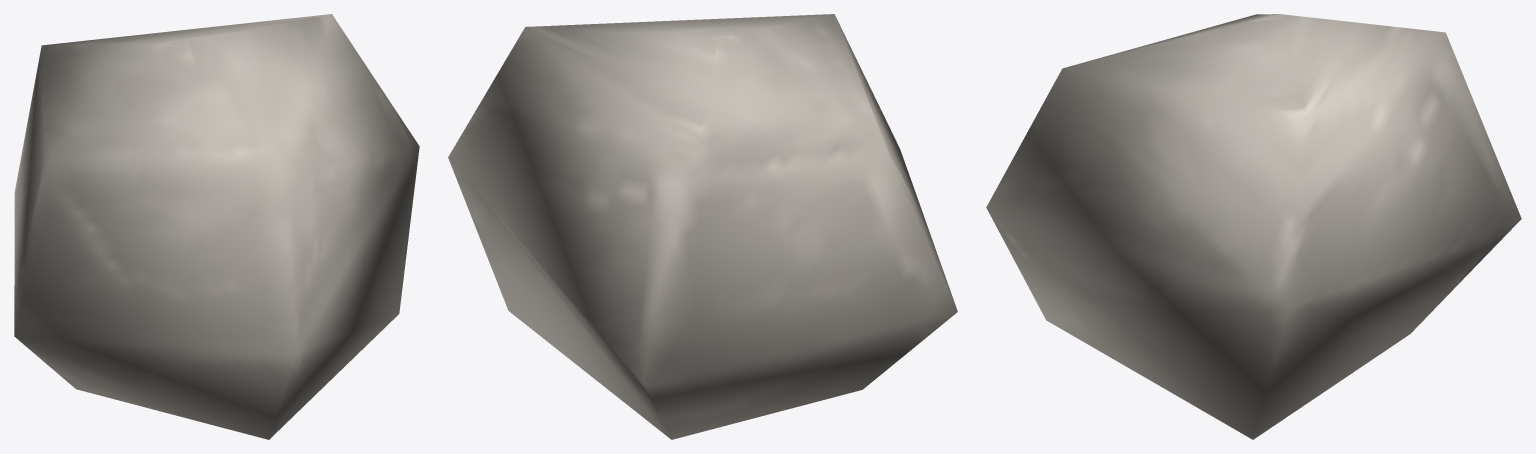
The model's file is Rock3.fbx.
The picture shows the model from 3 angles, left to right: view 1: azimuth 30°, elevation 25°; view 2: azimuth 150°, elevation 25°; view 3: azimuth 270°, elevation 25°; orthographic projection. The views are drawn at different scales.
Parts seen in each view (by area): view 1: Rock; view 2: Rock; view 3: Rock.
Part boxes in pixels (bbox=[...]): Rock: bbox=[14, 14, 419, 439]; Rock: bbox=[448, 14, 957, 439]; Rock: bbox=[986, 14, 1521, 439].
Size of the model in its own units: 146 by 107 by 150.
